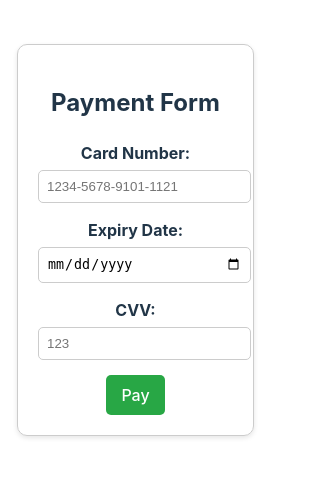
Scenario: Card Component Validation (Card Number › does not accept an invalid card number
Type "1234365" into the field with placeholder "1234-5678-9101-1121" at (145, 187), box [38,170,251,203]
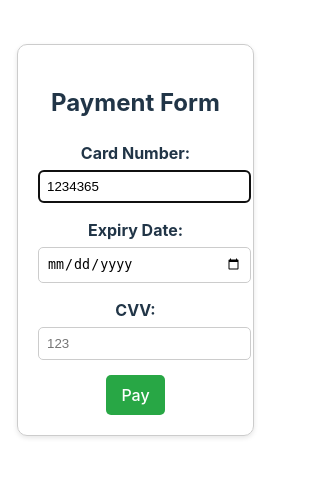
Type "2025-12-31" into the date field with placeholder "MM/YY" at (145, 265), box [38,247,251,282]
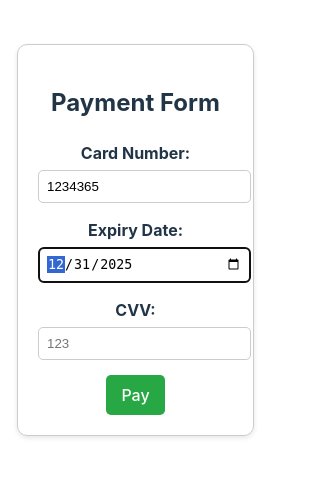
Type "1214" into the number field with placeholder "123" at (145, 344), box [38,327,251,360]
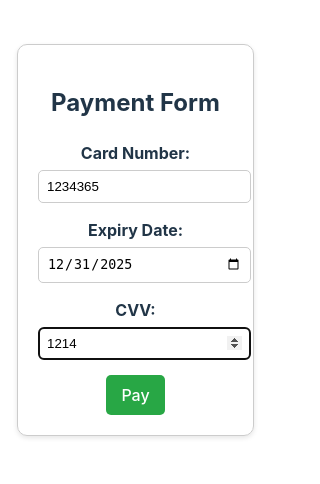
Click the button "Pay" at (135, 395), box [106,375,164,415]
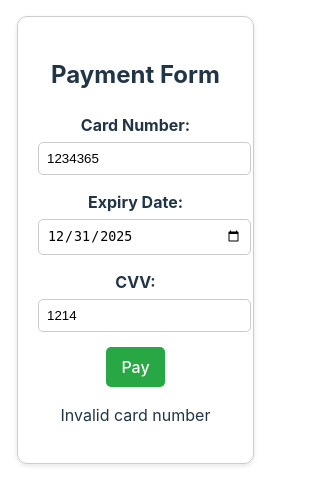
Now the text "Invalid card number" is shown, box [61,405,210,425]
